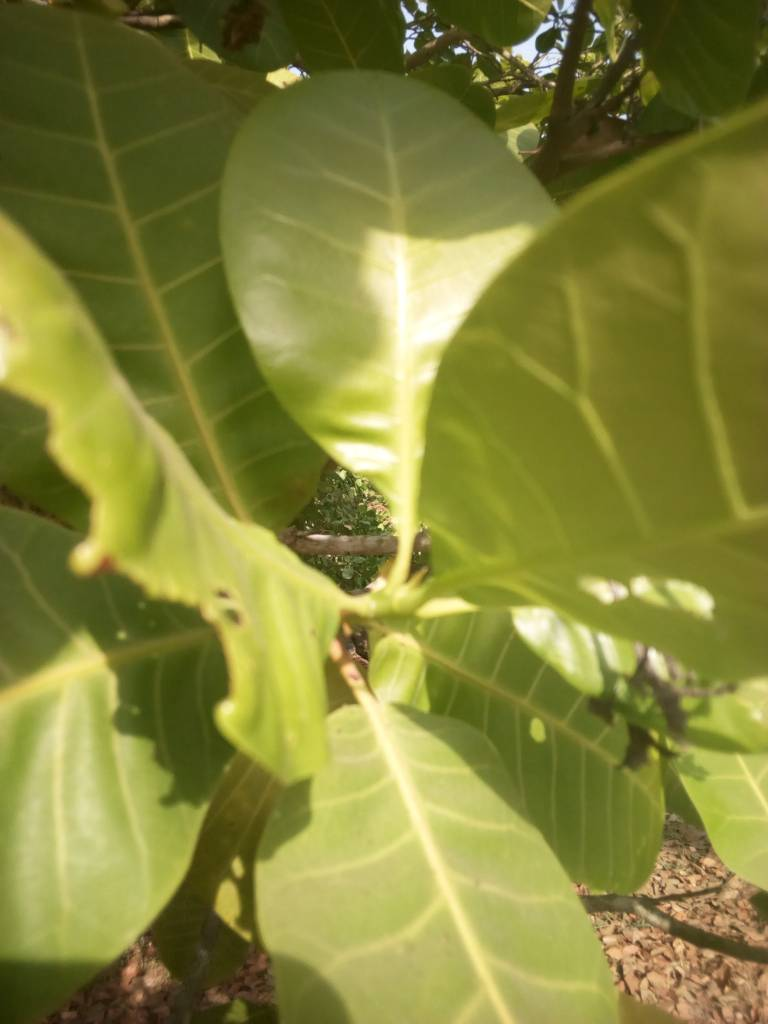Anoplonemis curvipes: (4, 311, 335, 788)
